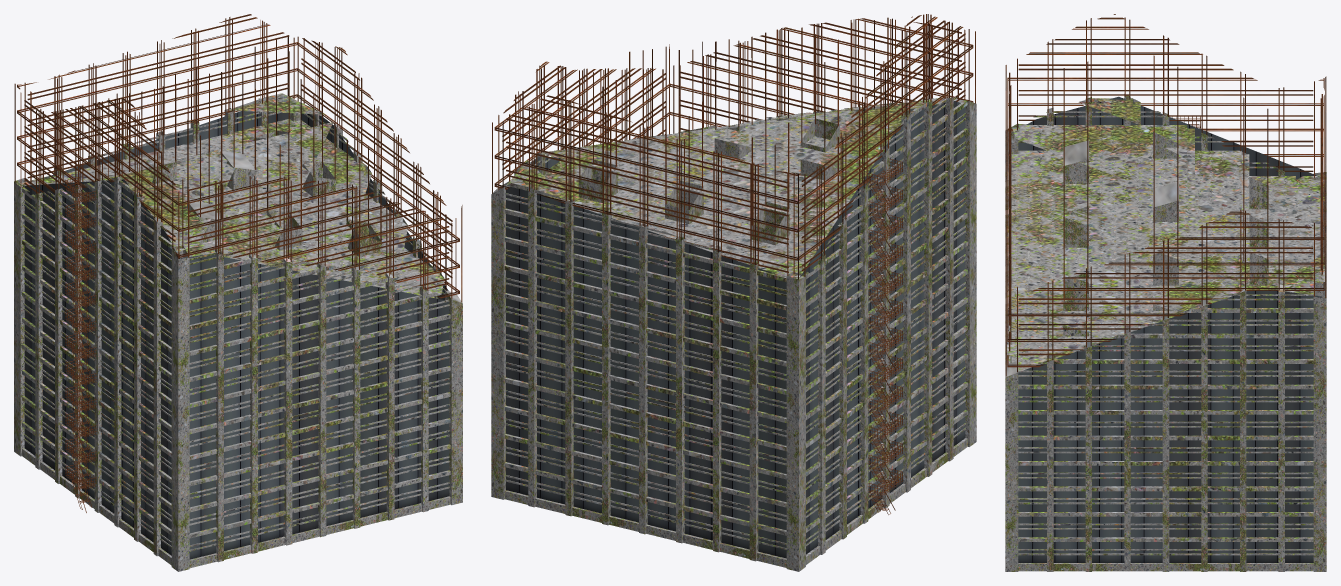
File: tower_majadroid_04.glb
The picture shows the model from 3 angles, left to right: view 1: azimuth 30°, elevation 25°; view 2: azimuth 150°, elevation 25°; view 3: azimuth 270°, elevation 25°; orthographic projection. The views are drawn at different scales.
Visible parts, largest first — view 1: tower_majadroid_04; view 2: tower_majadroid_04; view 3: tower_majadroid_04.
Part boxes in pixels (x1=…): tower_majadroid_04: x1=14, y1=14, x2=462, y2=571; tower_majadroid_04: x1=491, y1=14, x2=976, y2=571; tower_majadroid_04: x1=1005, y1=14, x2=1326, y2=571.
Bounding box in the file's own units: 41.86 × 58.26 × 40.
3 materials, 3 textured.
